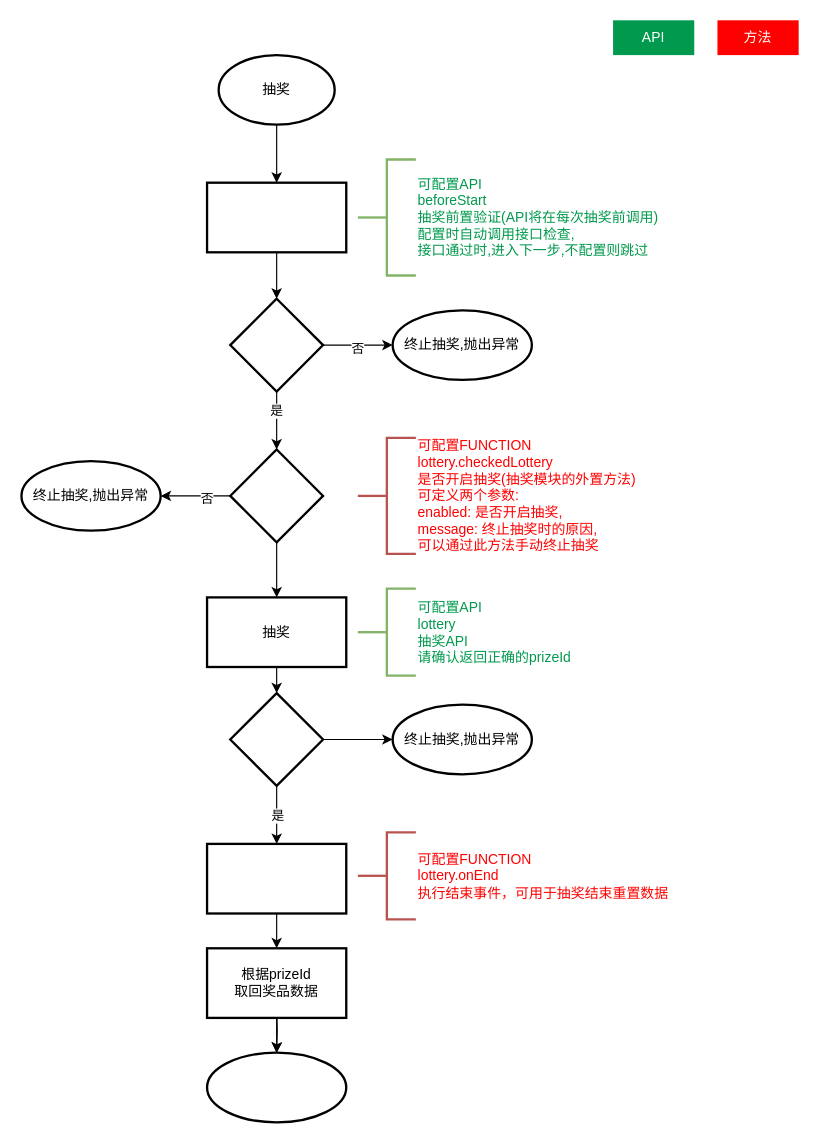
This 818x1143 diagram has some shape labels left out. Each missing label, with the centre of its shape:
"前置检查" goes at (x=276, y=217).
"完成抽奖" goes at (x=276, y=1087).
"已开启抽奖" goes at (x=276, y=495).
"成功" goes at (x=276, y=738).
"满足条件" goes at (x=276, y=344).
"结束抽奖回调" goes at (x=276, y=878).
